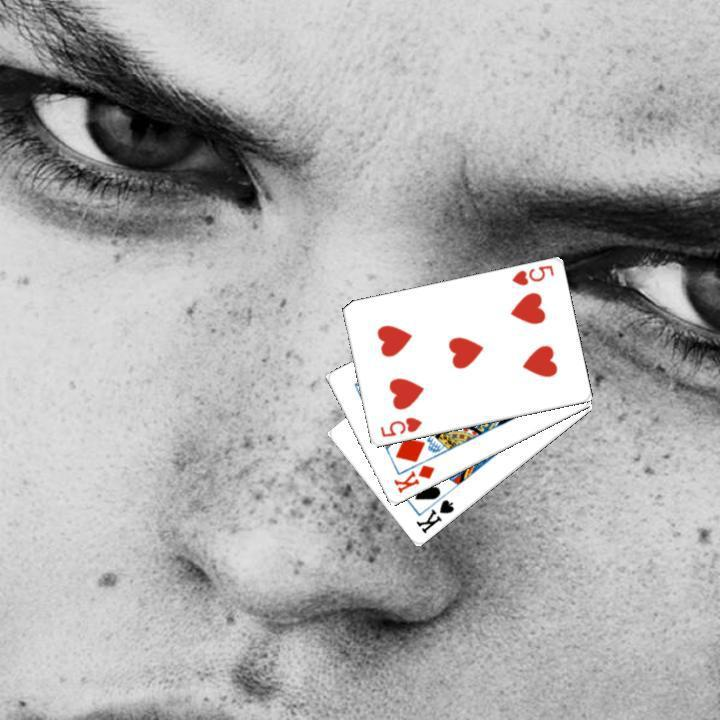5: (375, 413, 424, 440), (507, 261, 556, 288)
K: (411, 495, 456, 536), (389, 461, 437, 496)
